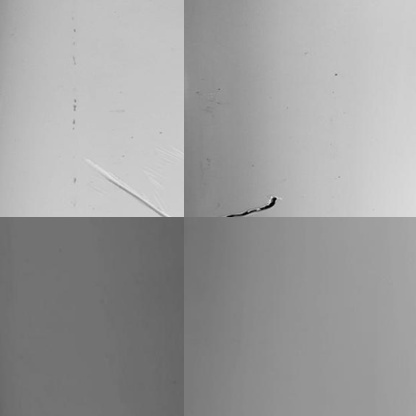fengxi: (228, 191, 279, 219)
sunshang: (80, 157, 168, 215)
